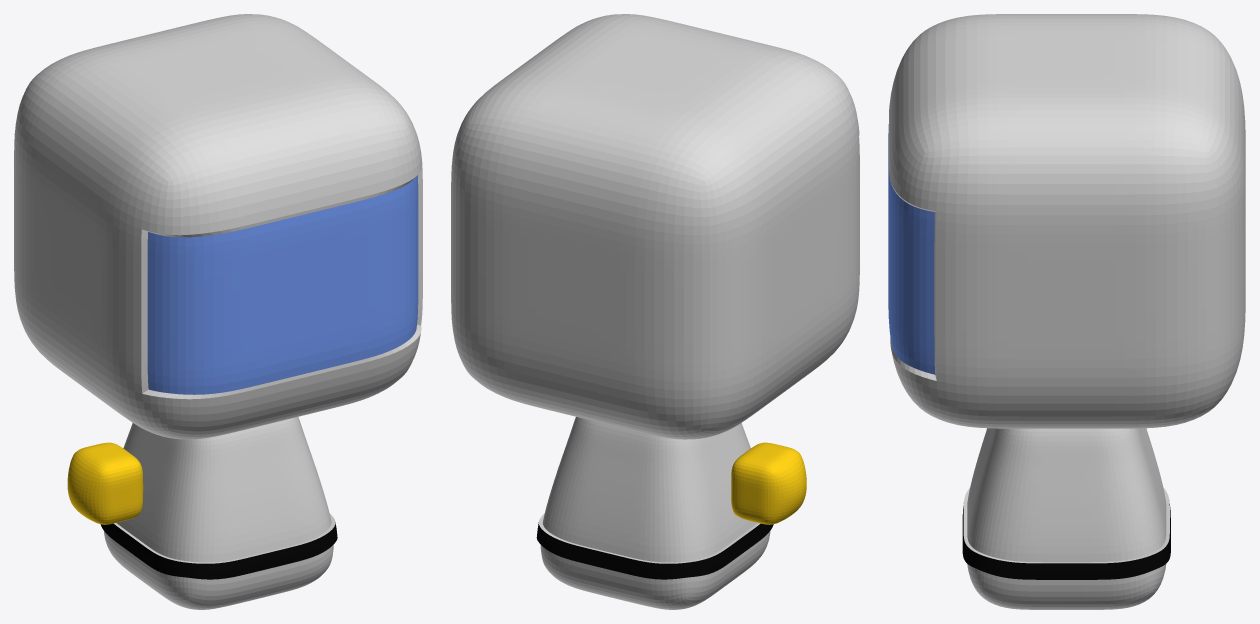
File: scientist.fbx
3 views of the same model, side by side, from view 1: azimuth 30°, elevation 25°; view 2: azimuth 150°, elevation 25°; view 3: azimuth 270°, elevation 25° (orthographic). The views are drawn at different scales.
Visible parts, largest first — view 1: Head, Body, Hand; view 2: Head, Body, Hand; view 3: Head, Body.
Boxes of the visible parts, bbox=[...] form: Head: bbox=[14, 14, 422, 439]; Body: bbox=[100, 417, 337, 609]; Hand: bbox=[67, 442, 143, 524]; Head: bbox=[451, 14, 859, 439]; Body: bbox=[536, 417, 773, 609]; Hand: bbox=[731, 442, 806, 524]; Head: bbox=[888, 14, 1245, 428]; Body: bbox=[962, 428, 1170, 609].
Bounding box in the file's own units: 100 × 162 × 99.88.
